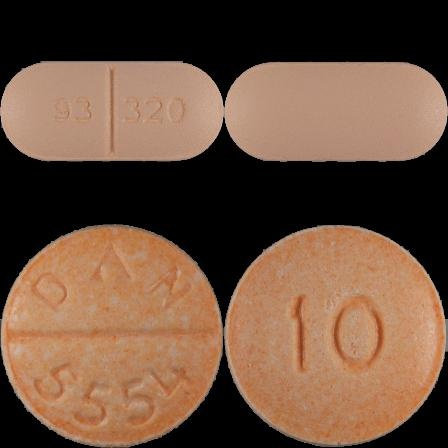61786-345: (0, 0, 224, 224)
